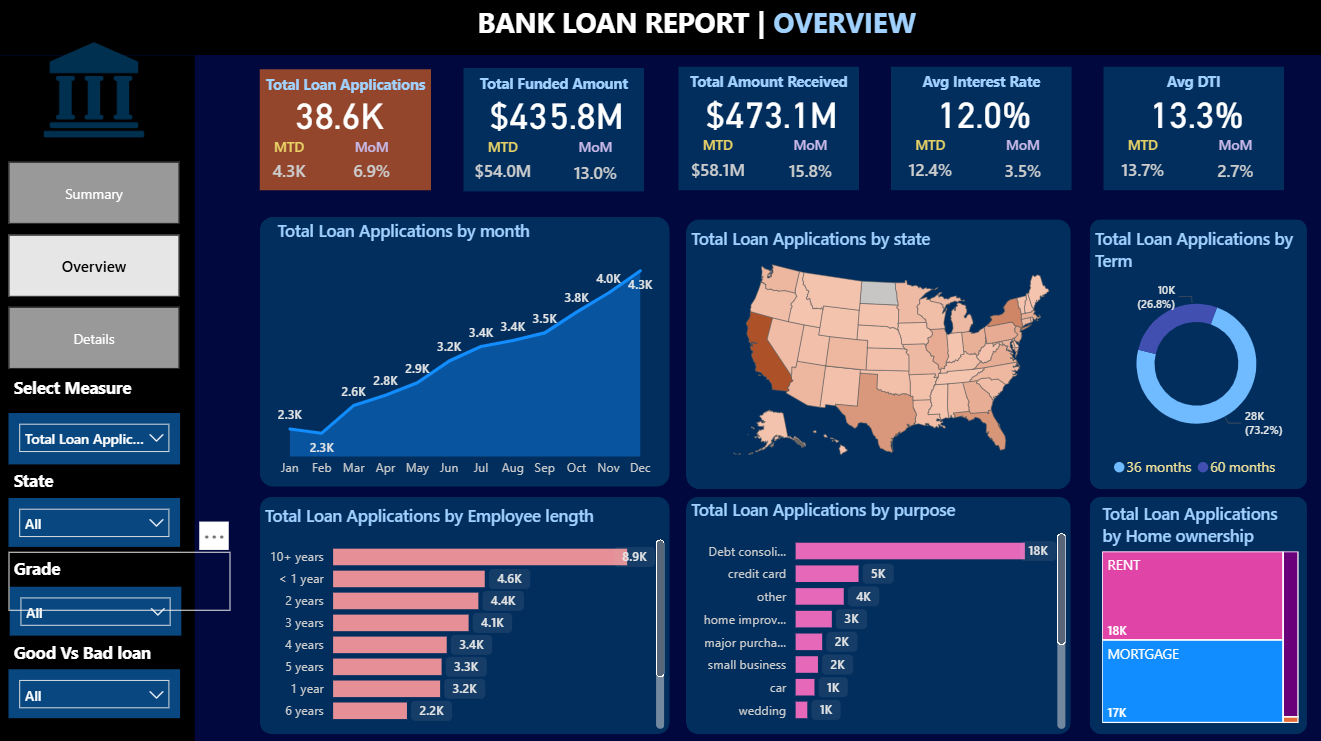

This screenshot's page, from the dashboard's own definition file:
{"tool":"powerbi","page":{"name":"Overview","canvas":[1280,720],"ordinal":1},"visuals":[{"type":"shape","box":[0,55.5,191.8,664.7],"z":0},{"type":"shape","box":[0,0,1280,55],"z":1000},{"type":"textbox","box":[459.7,0,627.3,62.7],"z":2000},{"type":"group","id":"g1","title":"Group 2","box":[241.3,49.5,178.6,136.3],"z":3000},{"type":"group","id":"g2","title":"Group 1","box":[658.1,66.3,174.2,121.5],"z":3000,"group":"g9"},{"type":"shape","box":[658.1,66.3,174.2,119.1],"z":3000,"group":"g2"},{"type":"group","id":"g3","title":"Group 1","box":[863.5,66.3,174.2,121.5],"z":3000,"group":"g10"},{"type":"shape","box":[863.5,66.3,174.2,119.1],"z":3000,"group":"g3"},{"type":"group","id":"g4","title":"Group 1","box":[1068.9,66.3,174.2,121.5],"z":3000,"group":"g11"},{"type":"shape","box":[1068.9,66.3,174.2,119.1],"z":3000,"group":"g4"},{"type":"group","id":"g5","title":"Group 1","box":[451.5,67.5,174.2,121.5],"z":3000,"group":"g7"},{"type":"shape","box":[451.5,67.5,174.2,119.1],"z":3000,"group":"g5"},{"type":"group","id":"g6","title":"Group 1","box":[241.3,68.8,178.6,117],"z":3000,"group":"g8"},{"type":"shape","box":[254.6,68.8,165.3,117],"z":3000,"group":"g6"},{"type":"card","fields":{"Values":["All Measures.Total Amount Received"]},"box":[674.4,48.3,146,124.3],"z":4000,"group":"g9"},{"type":"card","fields":{"Values":["All Measures.Avg Interest Rate"]},"box":[879.8,48.3,146,124.3],"z":4000,"group":"g10"},{"type":"card","fields":{"Values":["All Measures.Avg DTI"]},"box":[1085.2,48.3,146,124.3],"z":4000,"group":"g11"},{"type":"card","fields":{"Values":["All Measures.Total Loan Applications"]},"box":[254.6,49.5,154.4,123.1],"z":4000,"group":"g8"},{"type":"group","id":"g7","title":"Group 2","box":[451.5,49.5,174.9,138.7],"z":4000},{"type":"card","fields":{"Values":["All Measures.Total Funded Amount"]},"box":[467.8,49.5,146,124.3],"z":4000,"group":"g7"},{"type":"group","id":"g8","title":"Group 3","box":[241.3,49.5,178.6,136.3],"z":4001,"group":"g1"},{"type":"textbox","box":[658.1,66.3,174.2,43],"z":5000,"group":"g2"},{"type":"textbox","box":[863.5,66.3,174.2,43],"z":5000,"group":"g3"},{"type":"textbox","box":[1068.9,66.3,174.2,43],"z":5000,"group":"g4"},{"type":"textbox","box":[451.5,67.5,174.2,43],"z":5000,"group":"g5"},{"type":"textbox","box":[254.6,68.8,165.3,42.2],"z":5000,"group":"g6"},{"type":"shape","box":[254.6,211.1,395.7,260.6],"z":5000},{"type":"group","id":"g9","title":"Group 2","box":[658.1,48.3,173.7,138.7],"z":6000},{"type":"card","title":"MTD","fields":{"Values":["All Measures.MTD Total Amount Received"]},"box":[658.8,132.3,73.6,53.1],"z":6000,"group":"g2"},{"type":"card","title":"MTD","fields":{"Values":["All Measures.MTD Interest Rate"]},"box":[864.2,132.3,73.6,53.1],"z":6000,"group":"g3"},{"type":"card","title":"MTD","fields":{"Values":["All Measures.MTD Avg DTI"]},"box":[1069.6,132.3,73.6,53.1],"z":6000,"group":"g4"},{"type":"card","title":"MTD","fields":{"Values":["All Measures.MTD Funded Amount"]},"box":[452.2,133.5,73.6,53.1],"z":6000,"group":"g5"},{"type":"card","title":"MTD","fields":{"Values":["All Measures.MTD Total Loan Applications"]},"box":[241.3,133.9,83.2,51.9],"z":6000,"group":"g6"},{"type":"group","id":"g10","title":"Group 2","box":[863.5,48.3,173.7,138.7],"z":7000},{"type":"card","title":"MoM","fields":{"Values":["All Measures.MOM Amount Received"]},"box":[750,132.3,71.2,55.5],"z":7000,"group":"g2"},{"type":"card","title":"MoM","fields":{"Values":["All Measures.MOM Interest Rate"]},"box":[955.4,132.3,71.2,55.5],"z":7000,"group":"g3"},{"type":"card","title":"MoM","fields":{"Values":["All Measures.MOM Avg DTI"]},"box":[1160.8,132.3,71.2,55.5],"z":7000,"group":"g4"},{"type":"card","title":"MoM","fields":{"Values":["All Measures.MOM Funded Amount"]},"box":[543.4,133.5,71.2,55.5],"z":7000,"group":"g5"},{"type":"card","title":"MoM","fields":{"Values":["All Measures.MOM Loan Applications"]},"box":[316.1,133.9,92.9,51.9],"z":7000,"group":"g6"},{"type":"group","id":"g11","title":"Group 2","box":[1068.9,48.3,173.7,138.7],"z":8000},{"type":"slicer","fields":{"Values":["bank_loan.address_state"]},"box":[12.1,482.6,165.3,47.1],"z":9000},{"type":"textbox","box":[12.1,450,213.5,56.7],"z":10000},{"type":"slicer","fields":{"Values":["bank_loan.grade"]},"box":[13.3,568.2,165.3,47.1],"z":11000},{"type":"textbox","box":[12.1,534.5,213.5,56.7],"z":12000},{"type":"slicer","fields":{"Values":["bank_loan.Good Loan Vs Bad Loan"]},"box":[12.1,647.9,165.3,47.1],"z":13000},{"type":"textbox","box":[12.1,615.3,213.5,56.7],"z":14000},{"type":"slicer","fields":{"Values":["Select Measure.Select Measure"]},"box":[12.1,400.5,165.3,49.5],"z":15000},{"type":"textbox","box":[12.1,359.5,213.5,56.7],"z":16000},{"type":"areaChart","fields":{"Y":["All Measures.Total Loan Applications"],"Category":["Date Table.month"]},"box":[266.6,213.5,372.8,258.2],"z":17000},{"type":"shape","box":[666,213.5,371.6,260.6],"z":18000},{"type":"shapeMap","fields":{"Value":["All Measures.Total Loan Applications"],"Category":["bank_loan.address_state"]},"box":[666,220.8,396.9,235.3],"z":19000},{"type":"shape","box":[1055.6,213.5,209.9,260.6],"z":20000},{"type":"donutChart","fields":{"Y":["All Measures.Total Loan Applications"],"Category":["bank_loan.term"]},"box":[1055.6,220.8,206.3,250.9],"z":21000},{"type":"shape","box":[254.6,481.4,395.7,229.2],"z":22000},{"type":"shape","box":[666,481.4,371.6,229.2],"z":23000},{"type":"barChart","fields":{"Y":["All Measures.Total Loan Applications"],"Category":["bank_loan.emp_length"]},"box":[254.6,488.6,395.7,222],"z":24000},{"type":"barChart","fields":{"Y":["All Measures.Total Loan Applications"],"Category":["bank_loan.purpose"]},"box":[666,482.6,371.6,228],"z":25000},{"type":"shape","box":[1055.6,481.4,209.9,229.2],"z":26000},{"type":"treemap","fields":{"Values":["All Measures.Total Loan Applications"],"Group":["bank_loan.home_ownership"]},"box":[1062.9,486.2,199.1,218.4],"z":27000},{"type":"pageNavigator","box":[12.1,158,165.3,201.5],"z":30000},{"type":"image","box":[12.1,27.7,165.3,121.9],"z":30001}]}

Visuals, with their boxes in screenshot pixels (x1, y1, x2, y2), scaled from the page's 1280x720 canvas onto the 1321x741 screenshot:
shape: 0,57,198,740
shape: 0,0,1320,57
textbox: 474,0,1122,65
"Group 2" group: 249,51,433,191
"Group 1" group: 679,68,859,193
shape: 679,68,859,191
"Group 1" group: 891,68,1071,193
shape: 891,68,1071,191
"Group 1" group: 1103,68,1283,193
shape: 1103,68,1283,191
"Group 1" group: 466,69,646,195
shape: 466,69,646,192
"Group 1" group: 249,71,433,191
shape: 263,71,433,191
card - All Measures.Total Amount Received: 696,50,847,178
card - All Measures.Avg Interest Rate: 908,50,1059,178
card - All Measures.Avg DTI: 1120,50,1271,178
card - All Measures.Total Loan Applications: 263,51,422,178
"Group 2" group: 466,51,646,194
card - All Measures.Total Funded Amount: 483,51,633,179
"Group 3" group: 249,51,433,191
textbox: 679,68,859,112
textbox: 891,68,1071,112
textbox: 1103,68,1283,112
textbox: 466,69,646,114
textbox: 263,71,433,114
shape: 263,217,671,485
"Group 2" group: 679,50,858,192
"MTD" card: 680,136,756,191
"MTD" card: 892,136,968,191
"MTD" card: 1104,136,1180,191
"MTD" card: 467,137,543,192
"MTD" card: 249,138,335,191
"Group 2" group: 891,50,1070,192
"MoM" card: 774,136,848,193
"MoM" card: 986,136,1059,193
"MoM" card: 1198,136,1271,193
"MoM" card: 561,137,634,195
"MoM" card: 326,138,422,191
"Group 2" group: 1103,50,1282,192
slicer - bank_loan.address_state: 12,497,183,545
textbox: 12,463,233,521
slicer - bank_loan.grade: 14,585,184,633
textbox: 12,550,233,608
slicer - bank_loan.Good Loan Vs Bad Loan: 12,667,183,715
textbox: 12,633,233,692
slicer - Select Measure.Select Measure: 12,412,183,463
textbox: 12,370,233,428
areaChart - All Measures.Total Loan Applications x Date Table.month: 275,220,660,485
shape: 687,220,1071,488
shapeMap - All Measures.Total Loan Applications x bank_loan.address_state: 687,227,1097,469
shape: 1089,220,1306,488
donutChart - All Measures.Total Loan Applications x bank_loan.term: 1089,227,1302,485
shape: 263,495,671,731
shape: 687,495,1071,731
barChart - All Measures.Total Loan Applications x bank_loan.emp_length: 263,503,671,731
barChart - All Measures.Total Loan Applications x bank_loan.purpose: 687,497,1071,731
shape: 1089,495,1306,731
treemap - All Measures.Total Loan Applications x bank_loan.home_ownership: 1097,500,1302,725
pageNavigator: 12,163,183,370
image: 12,29,183,154
